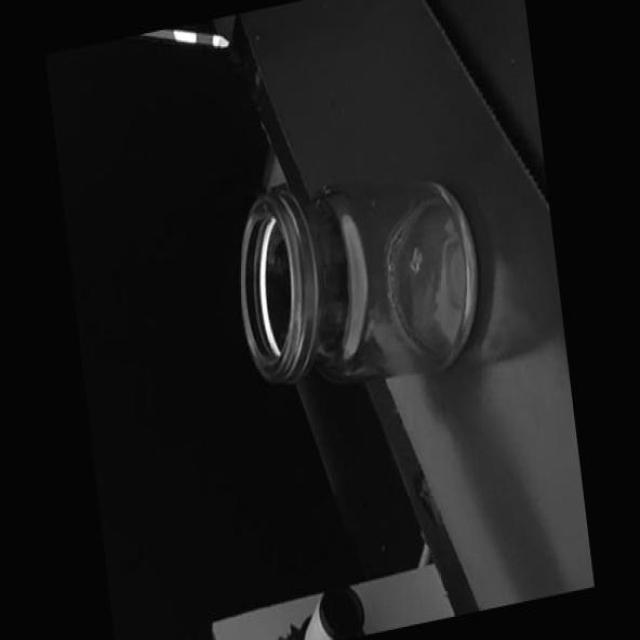glass: (222, 144, 490, 404)
